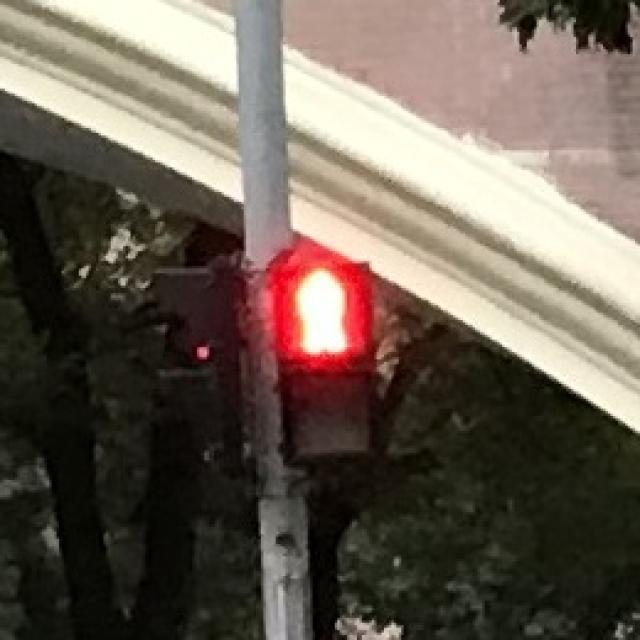red-crossing: (273, 263, 367, 362)
